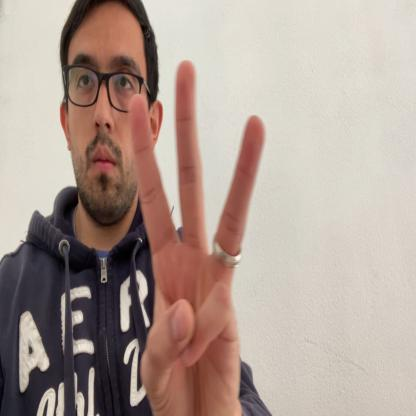W: (128, 58, 266, 415)
